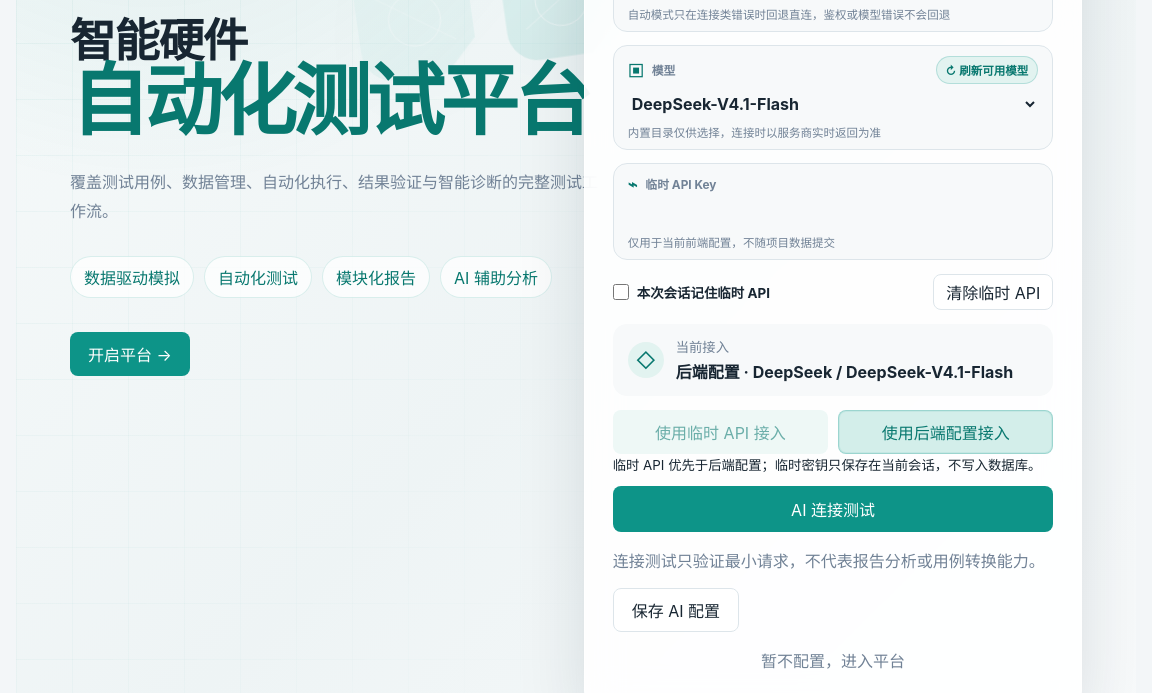
没有测试组时展示空状态
(page scrolled)
Click the button "开启平台 →" at x=130, y=354, box [70,332,190,376]
(page scrolled)
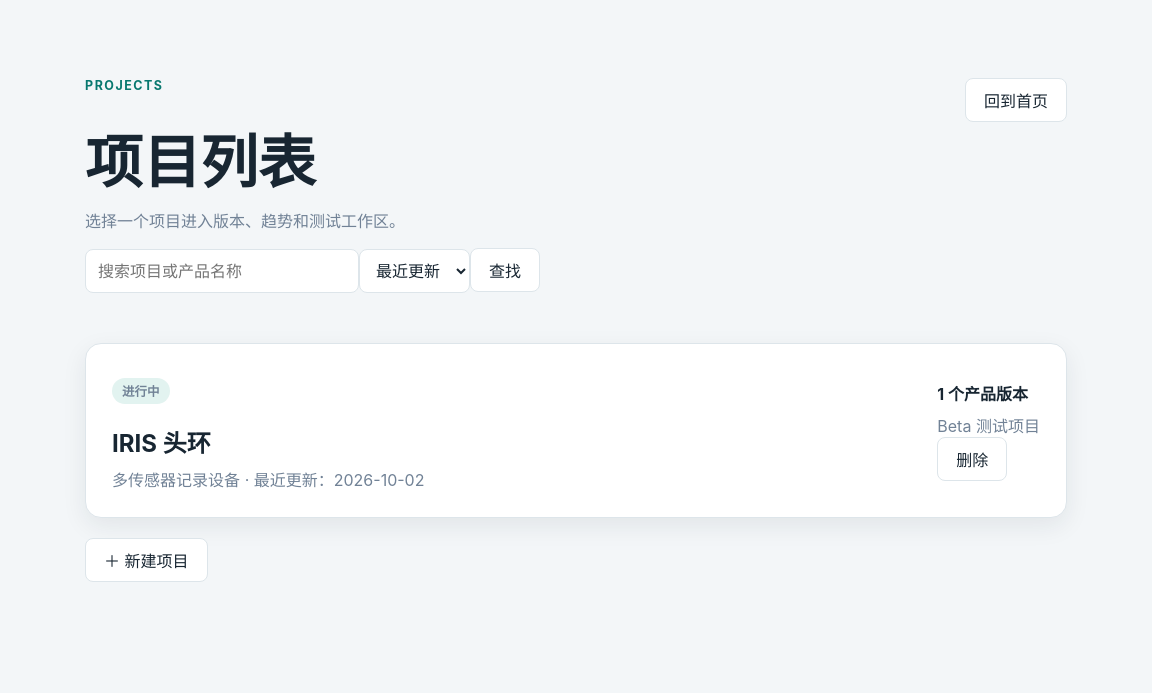
Click the button "进行中 IRIS 头环 多传感器记录设备 · 最近更新：2026-10-02 1 个产品版本 Beta 测试项目 删除" at x=576, y=431, box [85,343,1067,518]
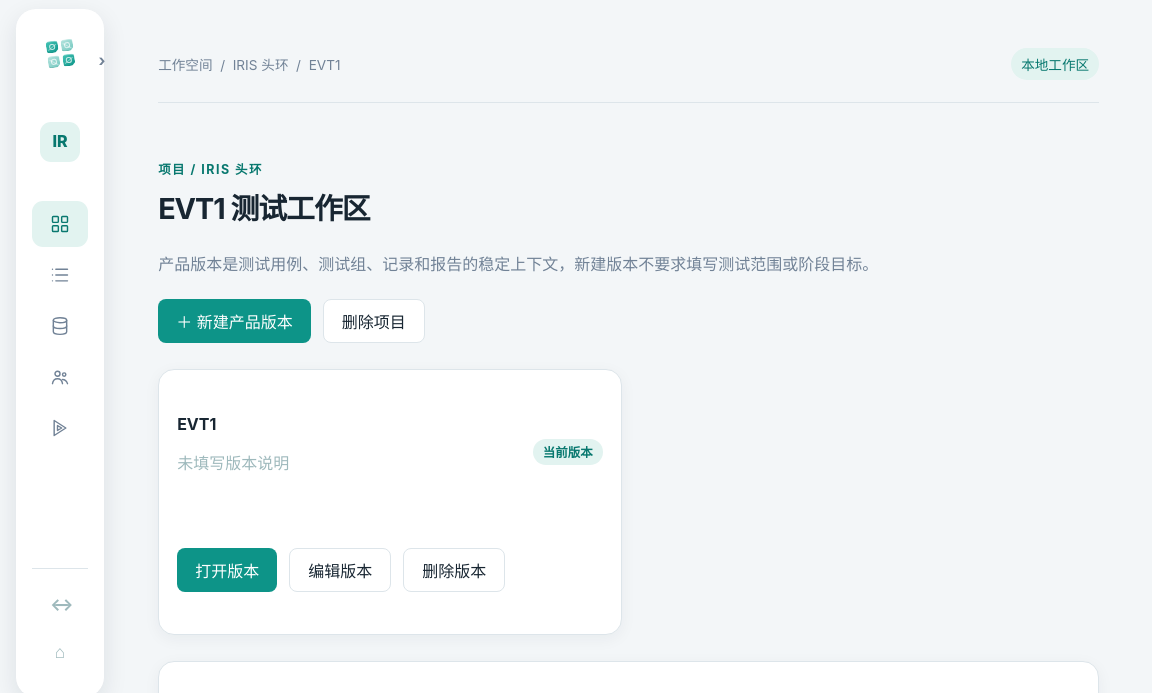
Click the button named "测试组设置" at x=60, y=377, box [32,354,88,400]
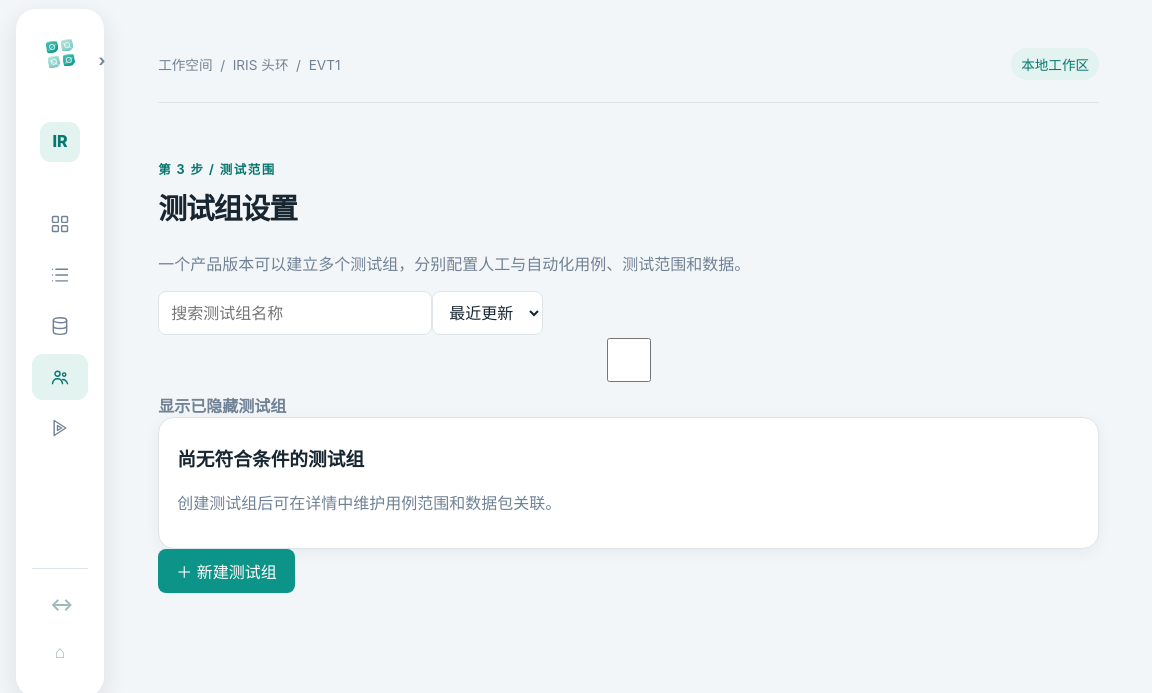
Check: the button "＋ 新建测试组" is shown, box [158,549,295,593]
Check: the heading "尚无符合条件的测试组" is shown, box [177,448,364,471]
